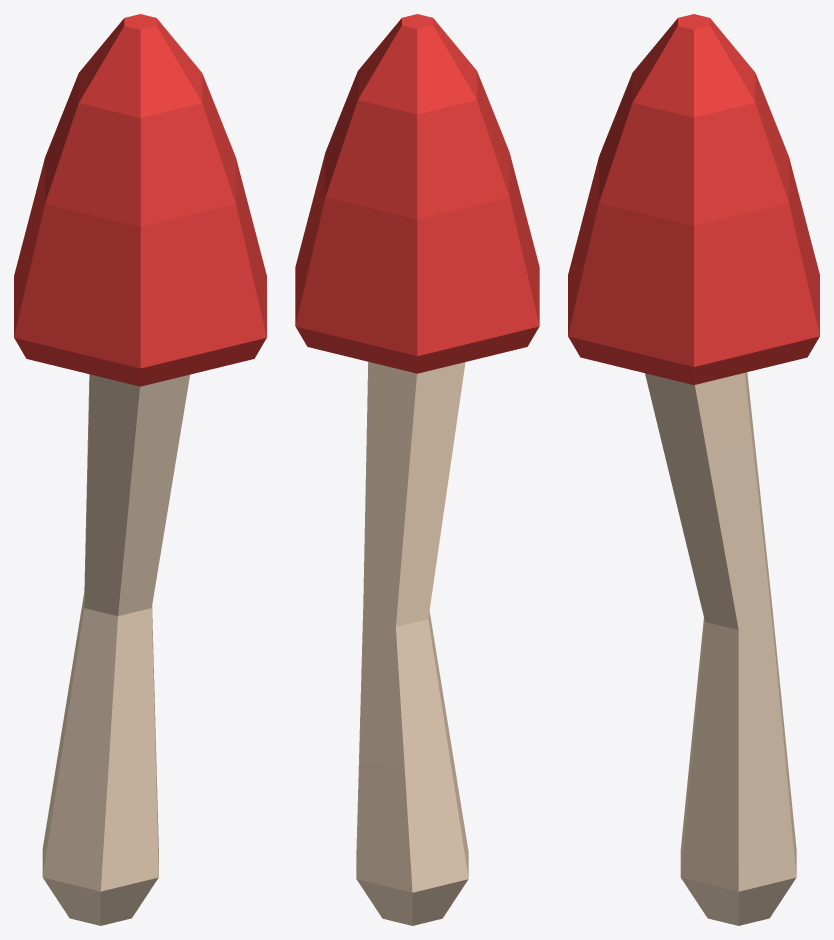
File: Mushroom.fbx
The picture shows the model from 3 angles, left to right: view 1: azimuth 30°, elevation 25°; view 2: azimuth 150°, elevation 25°; view 3: azimuth 270°, elevation 25°; orthographic projection. The views are drawn at different scales.
Visible parts, largest first — view 1: Murshroom; view 2: Murshroom; view 3: Murshroom.
Part boxes in pixels (<box>): Murshroom: <box>14,14,266,925</box>; Murshroom: <box>295,14,539,925</box>; Murshroom: <box>568,14,819,925</box>.
Bounding box in the file's own units: 3.9 × 13.27 × 3.38.
